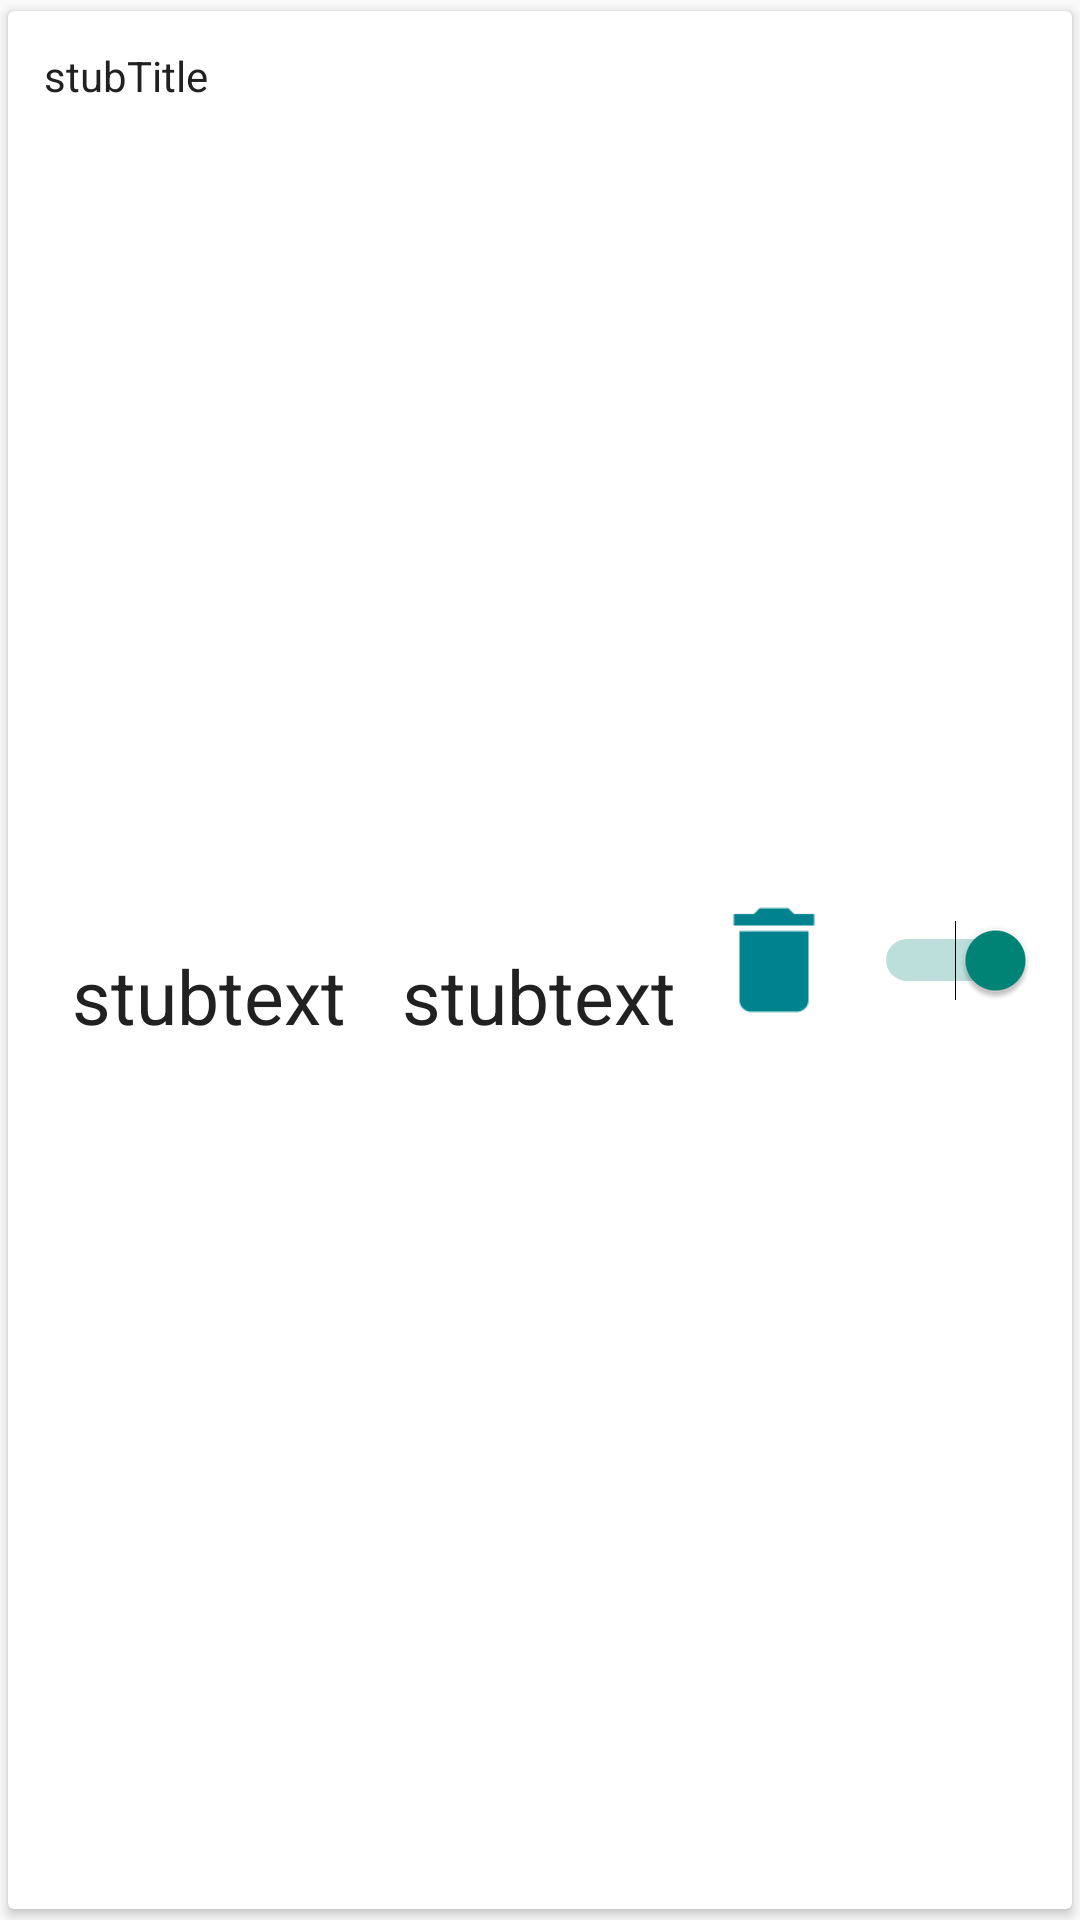

Icon bounding boxes for this 1080*1920 phone screenshot, format (x1, y1, x2, y2):
delete: (733, 907, 815, 1013)
